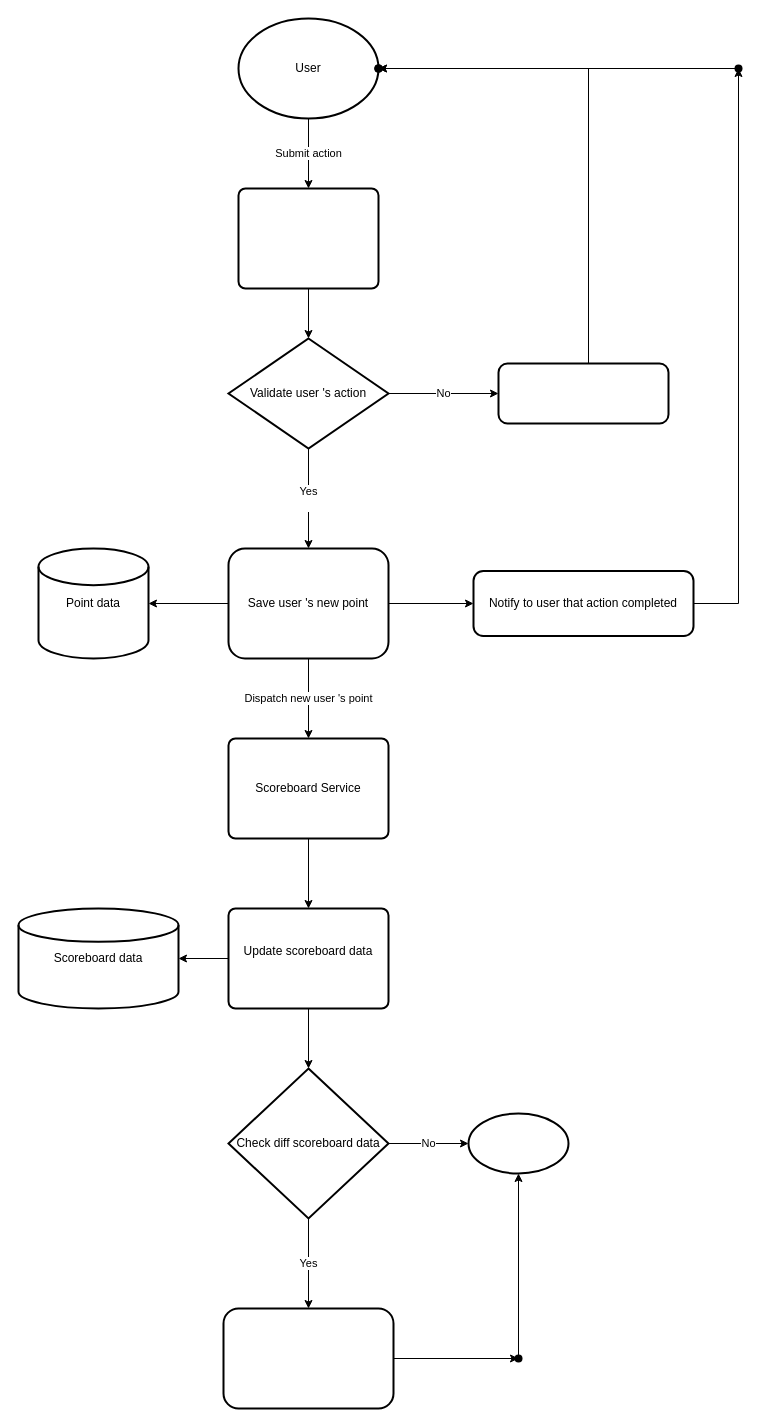
The diagram is 766 pixels wide and 1426 high, and some of its shapes have lost their labels. Here are the shapes that lost their labels. From the top down, the box of each, then its label:
(237, 187, 379, 289): Point Service
(497, 362, 669, 424): Return error to user
(467, 1112, 569, 1174): End
(222, 1307, 394, 1409): Notify to users to update score board duo to scoreboard changed
